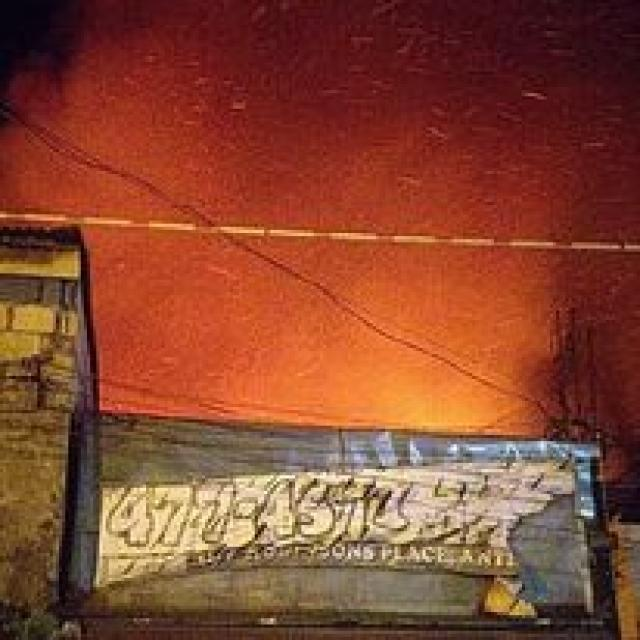Fire: (75, 0, 576, 429)
